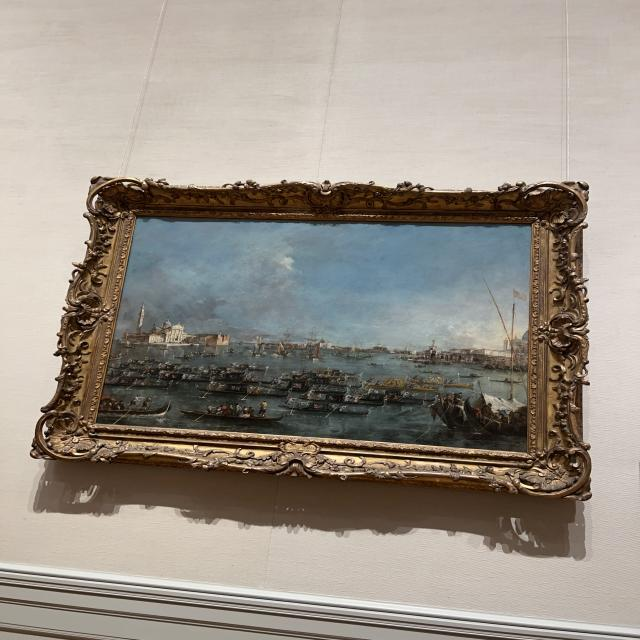ships: (97, 221, 524, 448)
